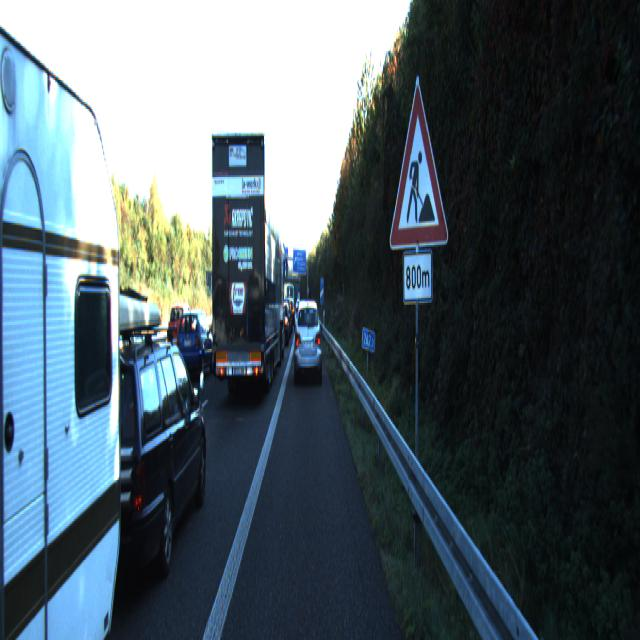Car: (0, 0, 130, 639), (53, 334, 209, 616), (212, 129, 284, 404), (176, 308, 215, 381), (293, 296, 322, 383), (167, 300, 198, 356), (274, 306, 290, 346)
